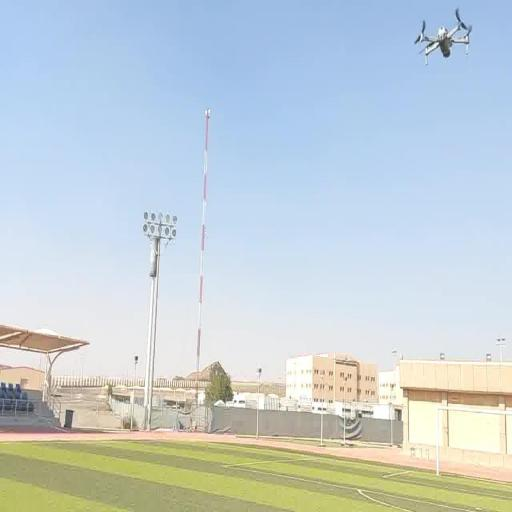drone: (412, 6, 473, 67)
